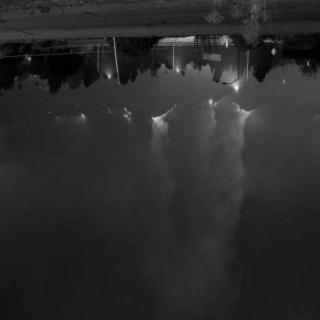Fire: (78, 113, 86, 125)
